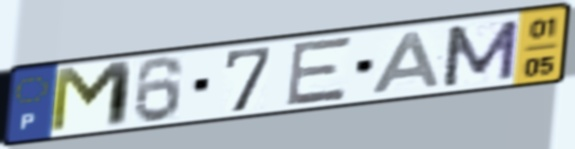6: (132, 54, 185, 127)
7: (221, 45, 273, 114)
A: (367, 28, 444, 97)
E: (282, 34, 356, 109)
M: (45, 58, 137, 138), (439, 17, 523, 90)
